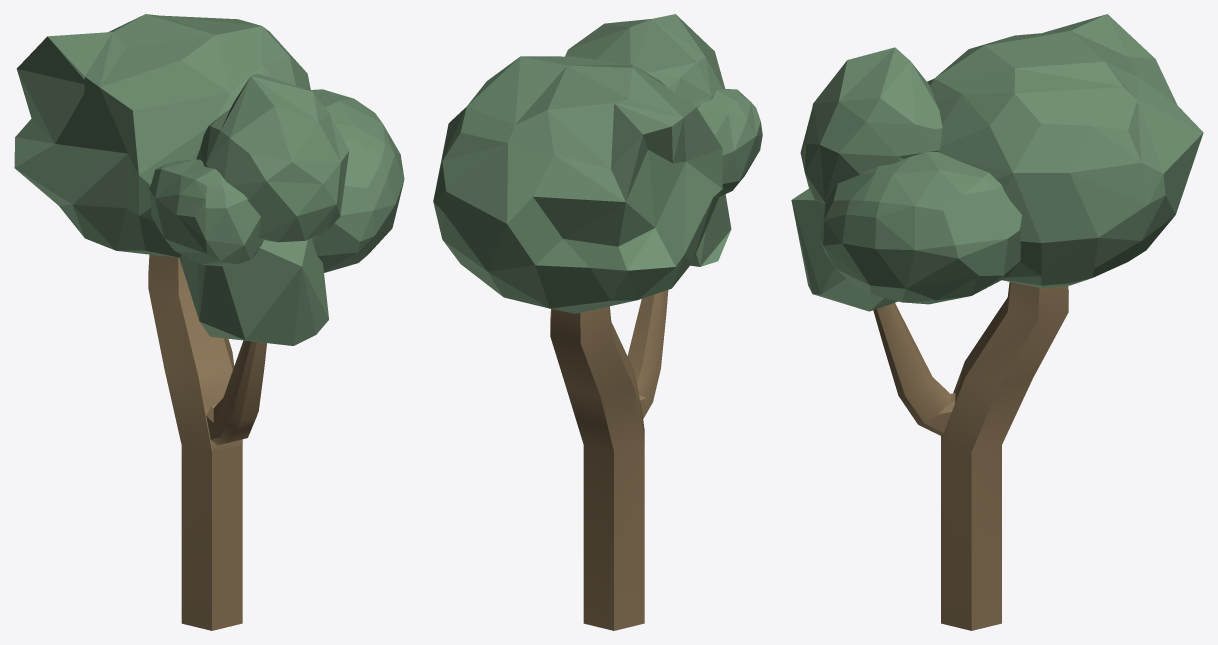
Rendered from Tree 2.fbx.
3 views of the same model, side by side, from view 1: azimuth 30°, elevation 25°; view 2: azimuth 150°, elevation 25°; view 3: azimuth 270°, elevation 25° (orthographic).
Parts seen in each view (by area): view 1: Tree_2; view 2: Tree_2; view 3: Tree_2.
Boxes of the visible parts, <box> form: Tree_2: <box>14,14,404,630</box>; Tree_2: <box>433,14,762,630</box>; Tree_2: <box>791,14,1203,630</box>.
Size of the model in its own units: 346 by 636 by 418.
1 material, 1 textured.
